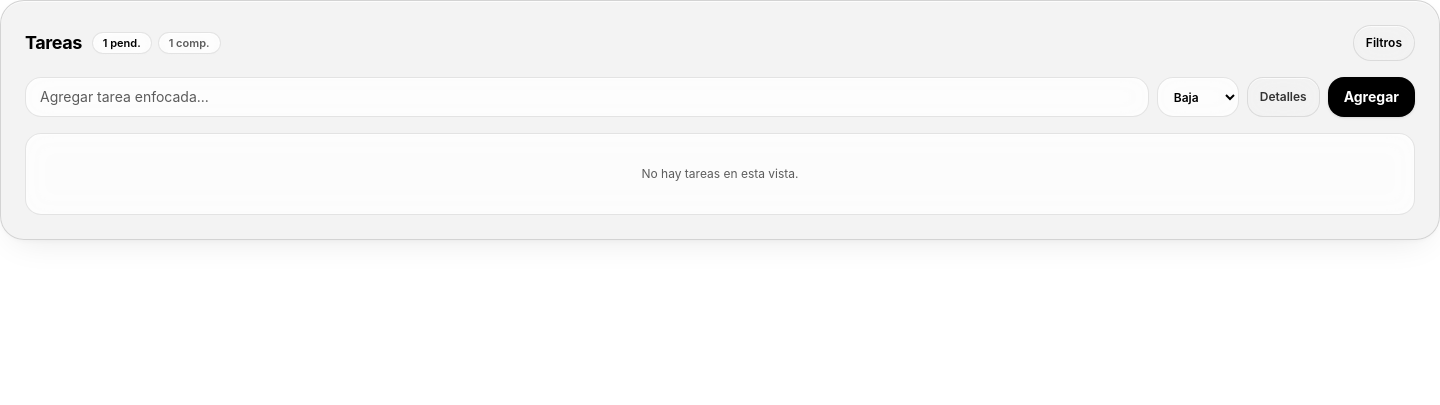
it: UI Components Security & Input Validation › keeps TasksPanel filters collapsed by default and opens them on demand
expect the tab "Todas" is not shown: met
Click the button "Filtros" at (1384, 43), box [1353,25,1415,61]
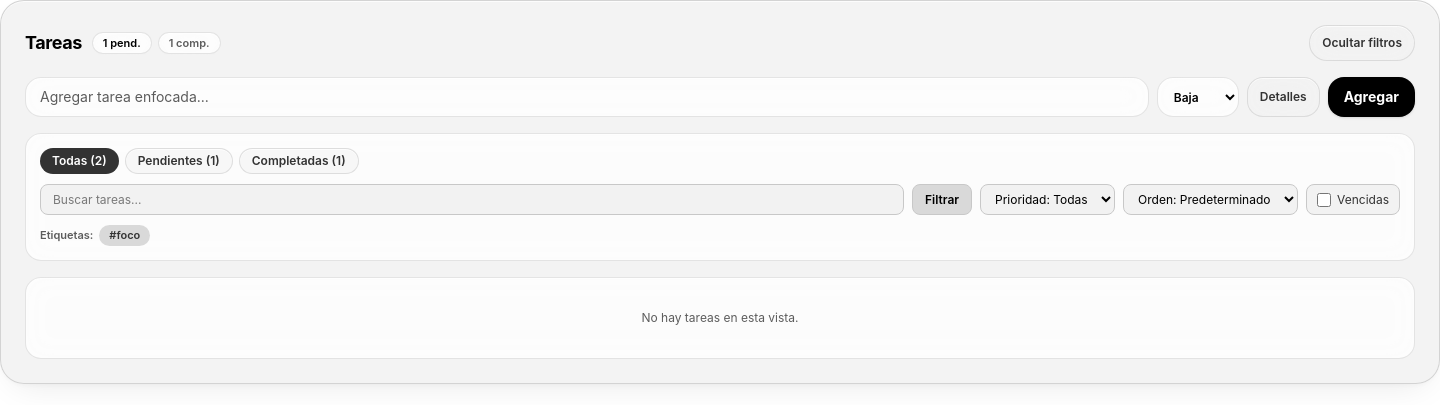
expect the tab "Todas (2)" is shown: met, box [40,148,119,174]
